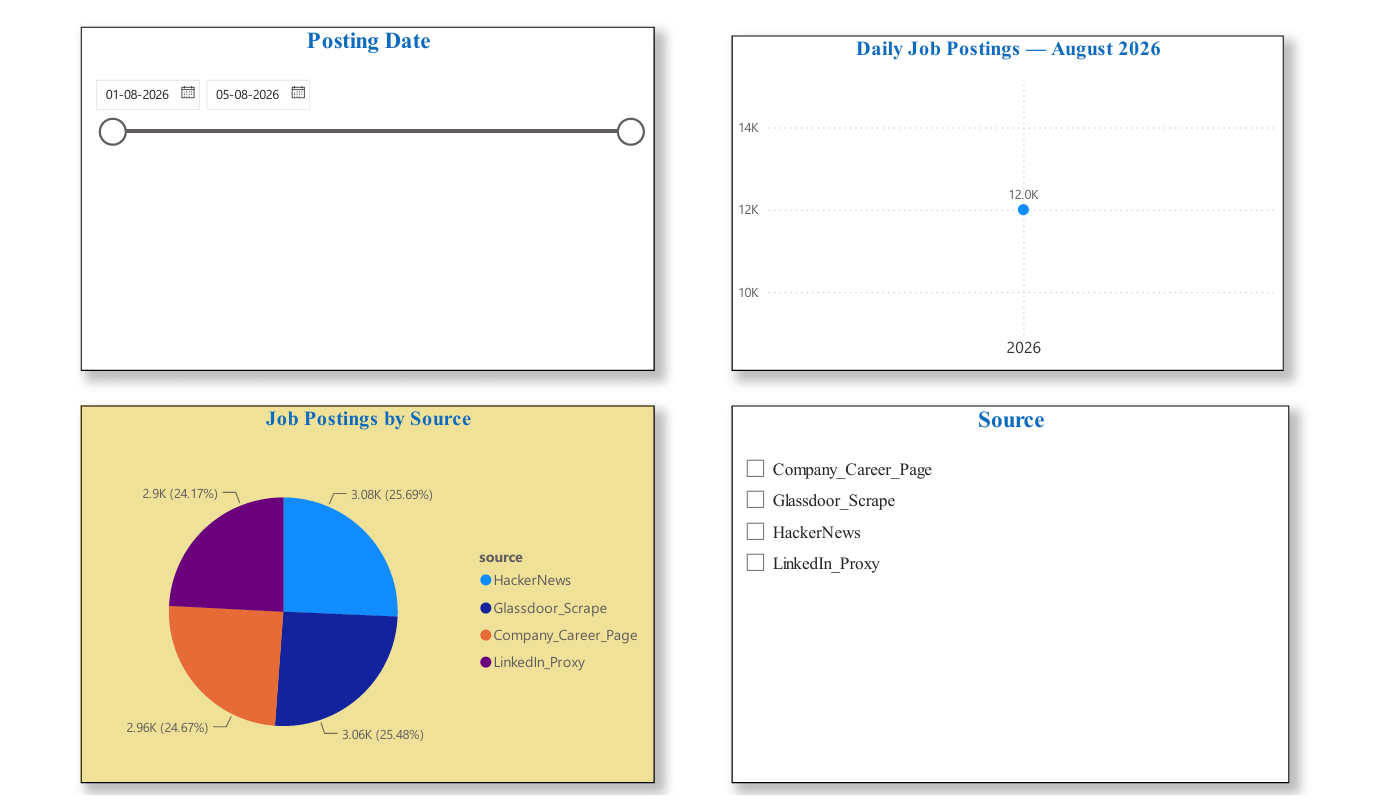

The dashboard page shown, as its layout file describes it:
{"tool":"powerbi","page":{"name":"TECHNOLOGY & SKILLS ANALYSIS","canvas":[1280,720],"ordinal":2},"visuals":[{"type":"slicer","title":"Source","fields":{"Values":["Global_Tech_Job_Market_2026.source"]},"box":[671,359.5,514.6,349.9],"z":0},{"type":"slicer","title":"Posting Date","fields":{"Values":["Global_Tech_Job_Market_2026.date_posted"]},"box":[70,9.6,529.7,318.4],"z":1000},{"type":"lineChart","title":"Daily Job Postings — August 2026","fields":{"Category":["Global_Tech_Job_Market_2026.date_posted.Variation.Date Hierarchy.Year","Global_Tech_Job_Market_2026.date_posted.Variation.Date Hierarchy.Quarter","Global_Tech_Job_Market_2026.date_posted.Variation.Date Hierarchy.Month","Global_Tech_Job_Market_2026.date_posted.Variation.Date Hierarchy.Day"],"Y":["CountNonNull(Global_Tech_Job_Market_2026.job_id)"]},"box":[671,17.8,510.5,310.1],"z":2000},{"type":"pieChart","title":"Job Postings by Source","fields":{"Category":["Global_Tech_Job_Market_2026.source"],"Y":["CountNonNull(Global_Tech_Job_Market_2026.job_id)"]},"box":[70,359.5,529.7,349.9],"z":3000}]}

Visuals, with their boxes in screenshot pixels (x1, y1, x2, y2):
"Source" slicer: 727 406 1277 779
"Posting Date" slicer: 86 32 651 372
"Daily Job Postings — August 2026" lineChart: 727 41 1272 372
"Job Postings by Source" pieChart: 86 406 651 779
